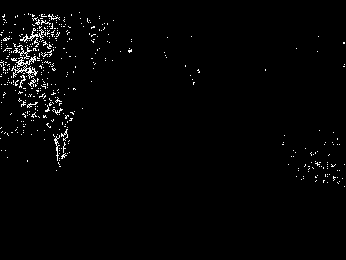person: (46, 96, 79, 166)
